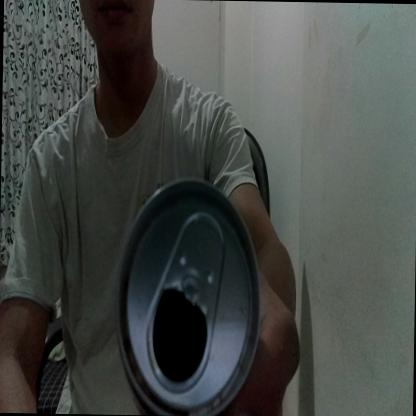alumunium_can: (113, 175, 260, 416)
